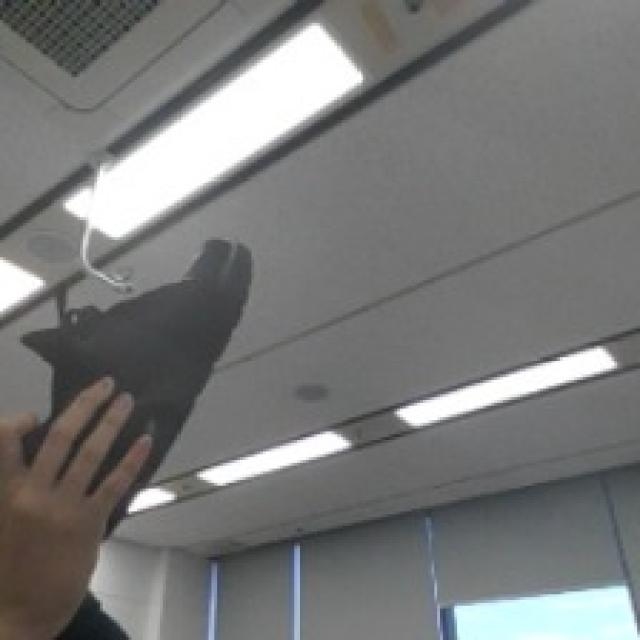shoe: (29, 237, 258, 533)
